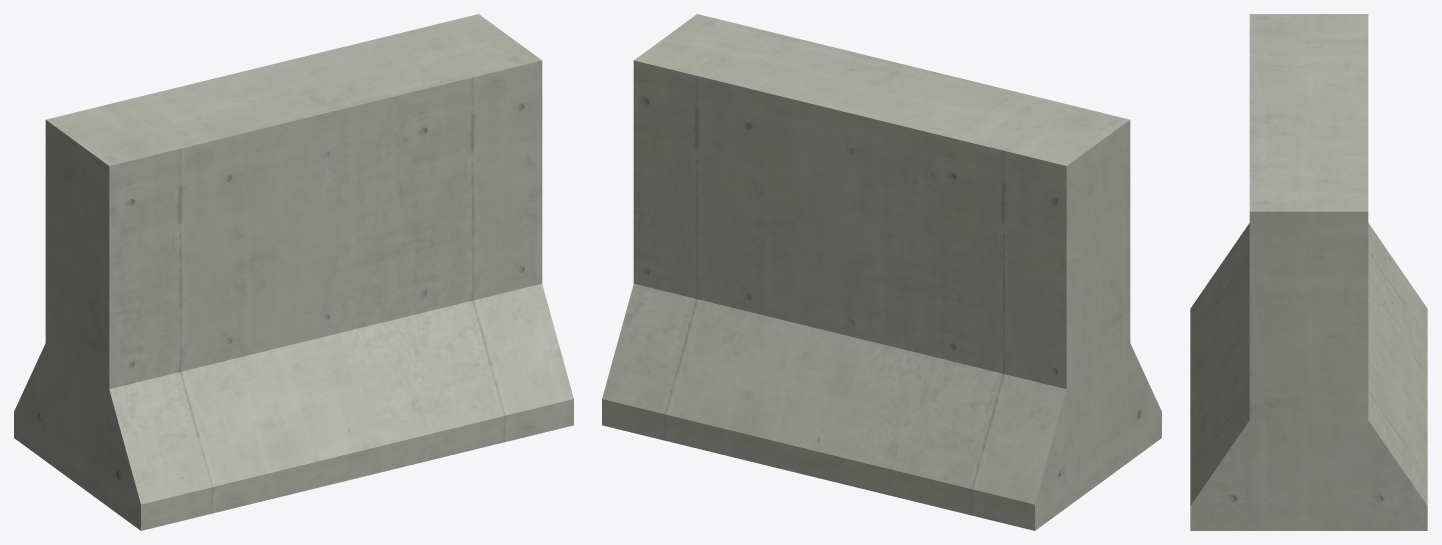
Rendered from Road_Blockage.fbx.
The picture shows the model from 3 angles, left to right: view 1: azimuth 30°, elevation 25°; view 2: azimuth 150°, elevation 25°; view 3: azimuth 270°, elevation 25°; orthographic projection. The views are drawn at different scales.
Visible parts, largest first — view 1: Cube; view 2: Cube; view 3: Cube.
Part boxes in pixels (<box>): Cube: <box>14,14,573,530</box>; Cube: <box>602,14,1161,530</box>; Cube: <box>1190,14,1427,530</box>.
Size of the model in its own units: 100 by 75.4 by 50.8.
Materials: 1 (1 with a texture image).
